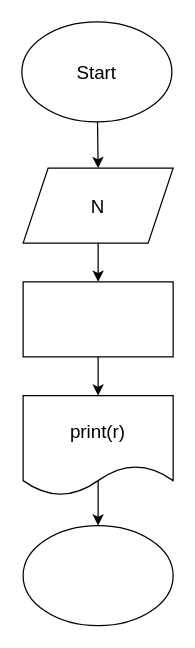
Some shapes in this 195 by 648 pixel diagram are drawn without their labels. The centre of each missing label's shape, as x and y in pixels:
"End" goes at [97,575].
"r r = random(1,N)" goes at [97,319].
